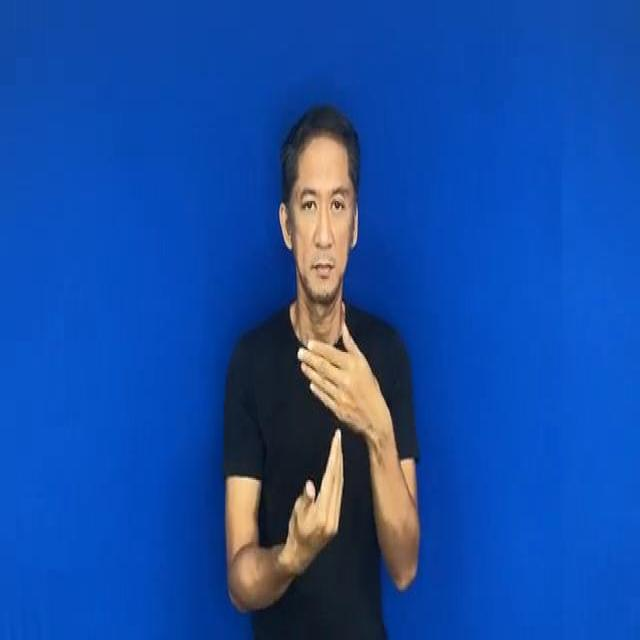bread: (293, 320, 384, 564)
